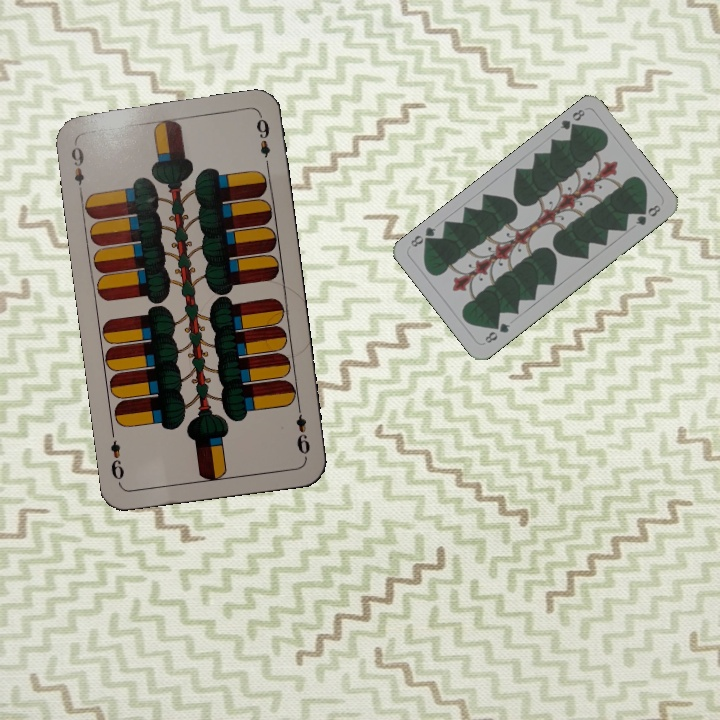E9: (292, 401, 313, 460), (67, 138, 87, 197)
G8: (556, 105, 588, 135), (481, 319, 513, 346)
